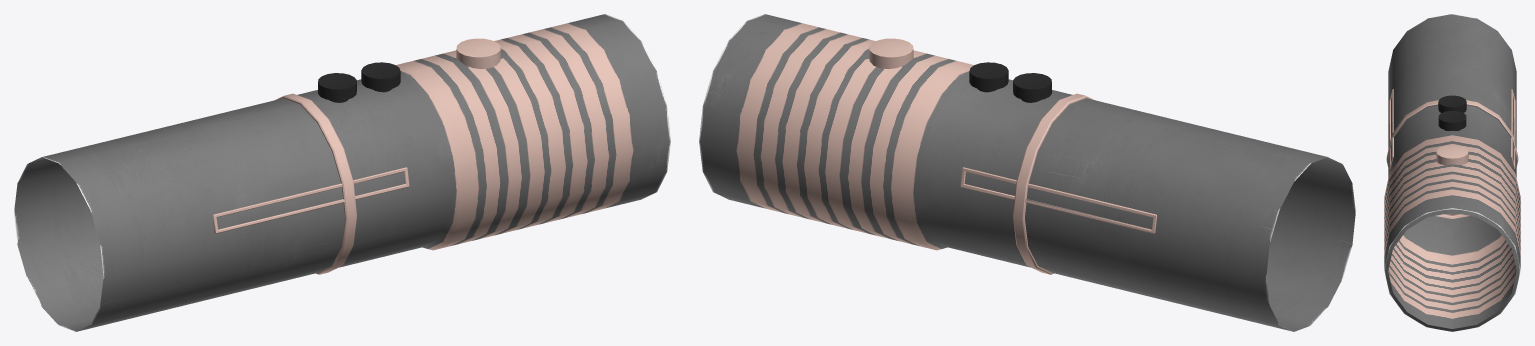
File: grip_14_c_c.glb
The picture shows the model from 3 angles, left to right: view 1: azimuth 30°, elevation 25°; view 2: azimuth 150°, elevation 25°; view 3: azimuth 270°, elevation 25°; orthographic projection. The views are drawn at different scales.
Parts seen in each view (by area): view 1: grip_14_c_c_lod0; view 2: grip_14_c_c_lod0; view 3: grip_14_c_c_lod0.
Boxes of the visible parts, x1,y1,x2,y2 form: grip_14_c_c_lod0: (14, 14, 670, 331); grip_14_c_c_lod0: (699, 14, 1355, 331); grip_14_c_c_lod0: (1384, 14, 1520, 331).
Size of what is drawn, in the model's own units: 0.1041 by 0.0321 by 0.0302.
Materials: 1 (1 with a texture image).
